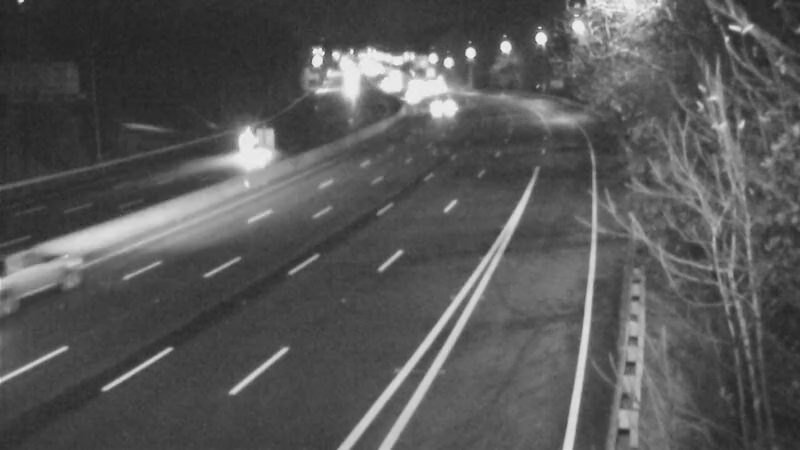vehicle: (1, 225, 74, 305), (421, 82, 471, 132), (227, 121, 277, 171)
